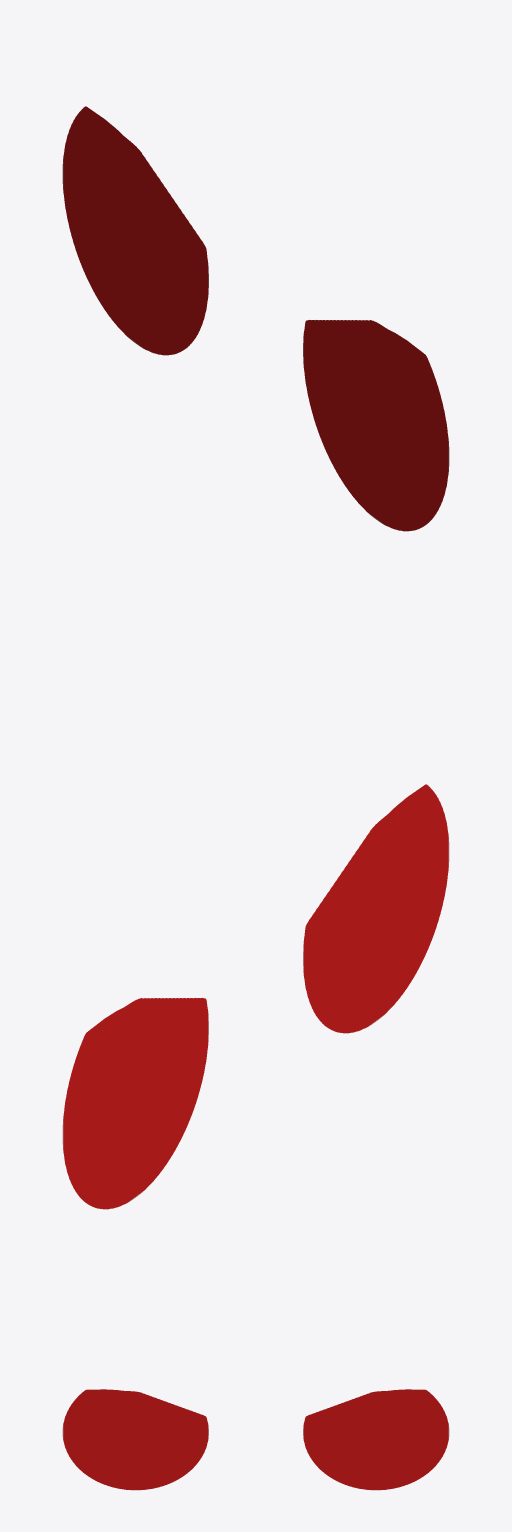
The model's file is eyes_haunted_05.fbx.
3 views of the same model, one above another, from view 1: azimuth 30°, elevation 25°; view 2: azimuth 150°, elevation 25°; view 3: azimuth 270°, elevation 25° (orthographic). The views are drawn at different scales.
Parts seen in each view (by area): view 1: eyes_haunted_05; view 2: eyes_haunted_05; view 3: eyes_haunted_05.
Part boxes in pixels (x1,y1,x2,y2): eyes_haunted_05: (62, 106, 449, 531); eyes_haunted_05: (62, 784, 449, 1209); eyes_haunted_05: (62, 1389, 449, 1490).
Bounding box in the file's own units: 3.15e-13 × 40.24 × 120.
1 material, 1 textured.
